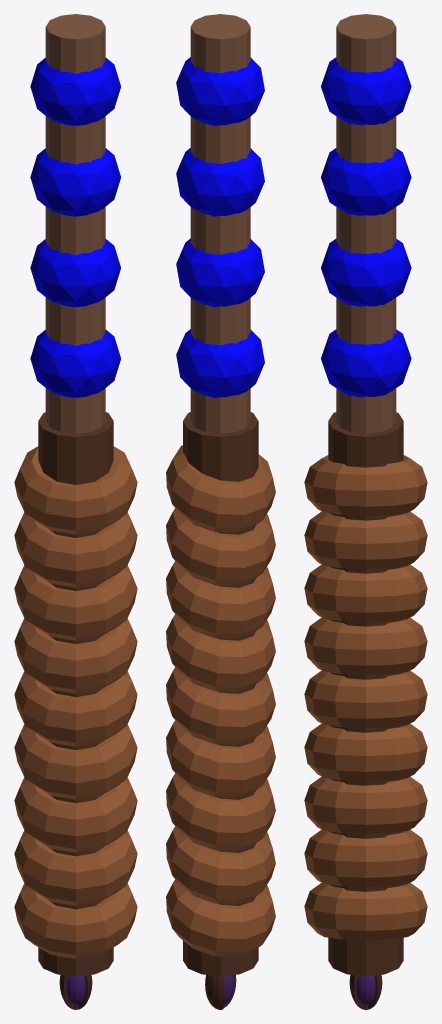
The model's file is Wand 437.glb.
The picture shows the model from 3 angles, left to right: view 1: azimuth 90°, elevation 25°; view 2: azimuth 150°, elevation 25°; view 3: azimuth 270°, elevation 25°; orthographic projection.
Parts seen in each view (by area): view 1: GeneratedWand; view 2: GeneratedWand; view 3: GeneratedWand.
Part boxes in pixels (x1=…): GeneratedWand: x1=14, y1=14, x2=137, y2=1009; GeneratedWand: x1=166, y1=14, x2=275, y2=1009; GeneratedWand: x1=304, y1=14, x2=427, y2=1009.
Bounding box in the file's own units: 0.0497 × 0.5112 × 0.0581.
